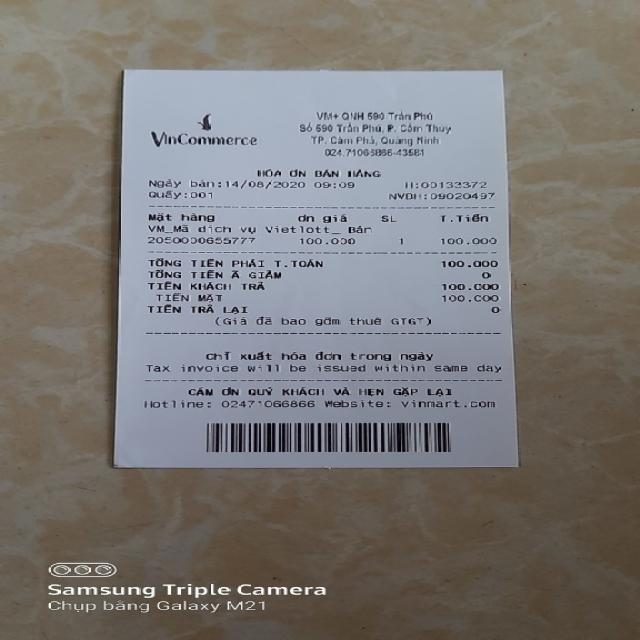Date: (226, 178, 308, 191)
Store_Name: (150, 131, 265, 151)
amount_number: (442, 260, 503, 268)
label_total: (146, 257, 330, 268)
